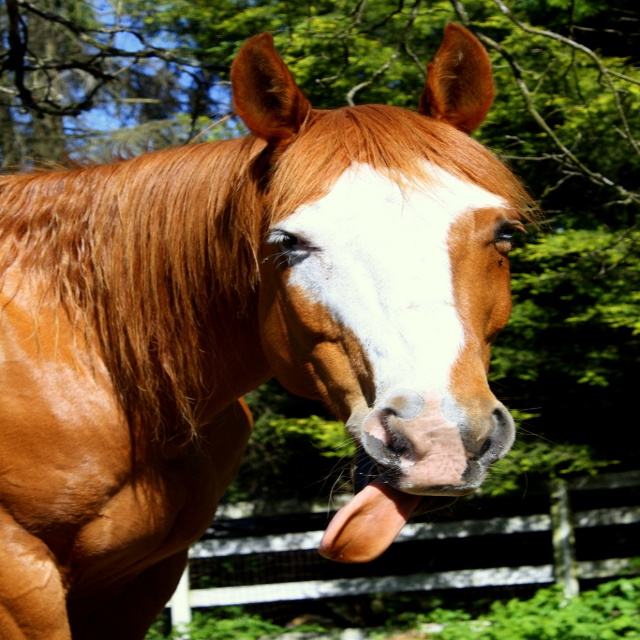Horse: (0, 21, 549, 640)
